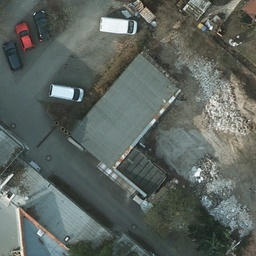car: (99, 16, 138, 37), (50, 84, 84, 102), (32, 11, 51, 43), (1, 42, 21, 70), (14, 22, 34, 50)
